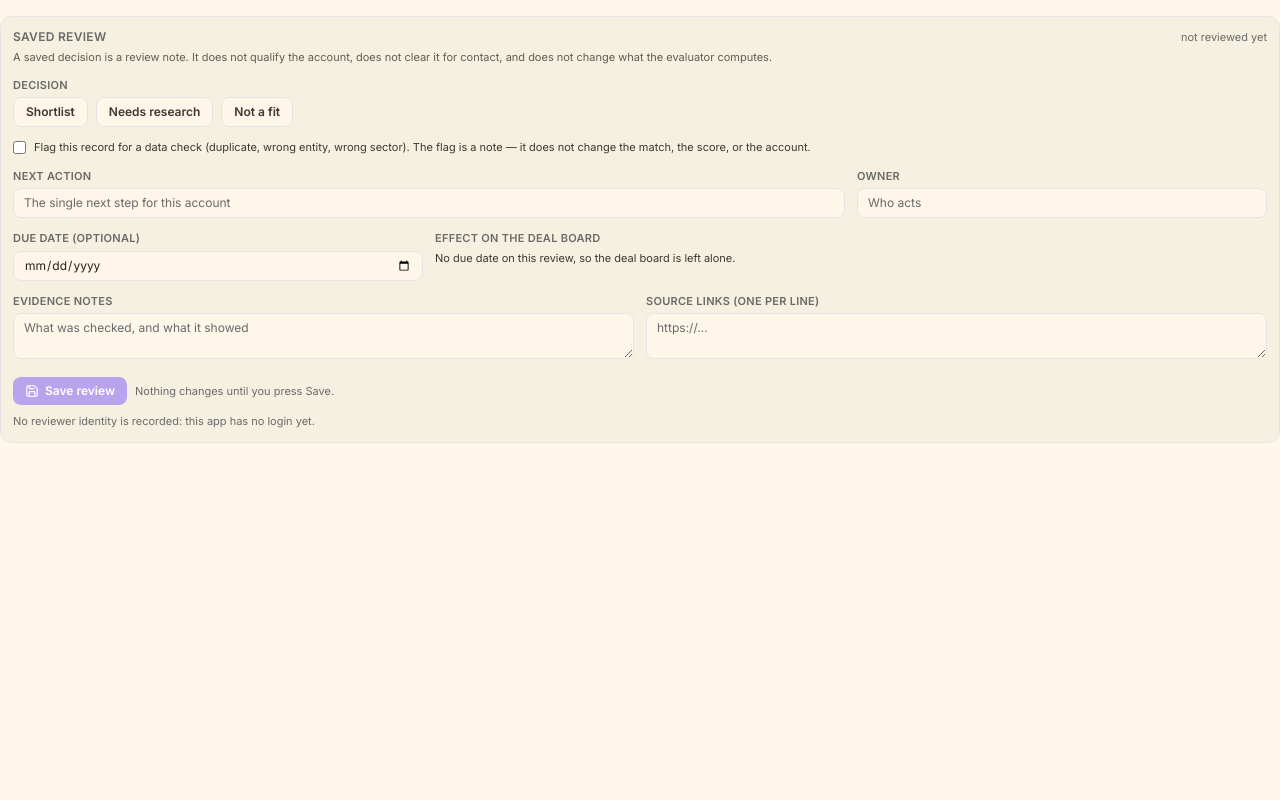
Test: ProspectReviewPanel › refuses a decision with no reason, before writing anything
Click the button "Shortlist": (50, 112) [13,97,88,127]
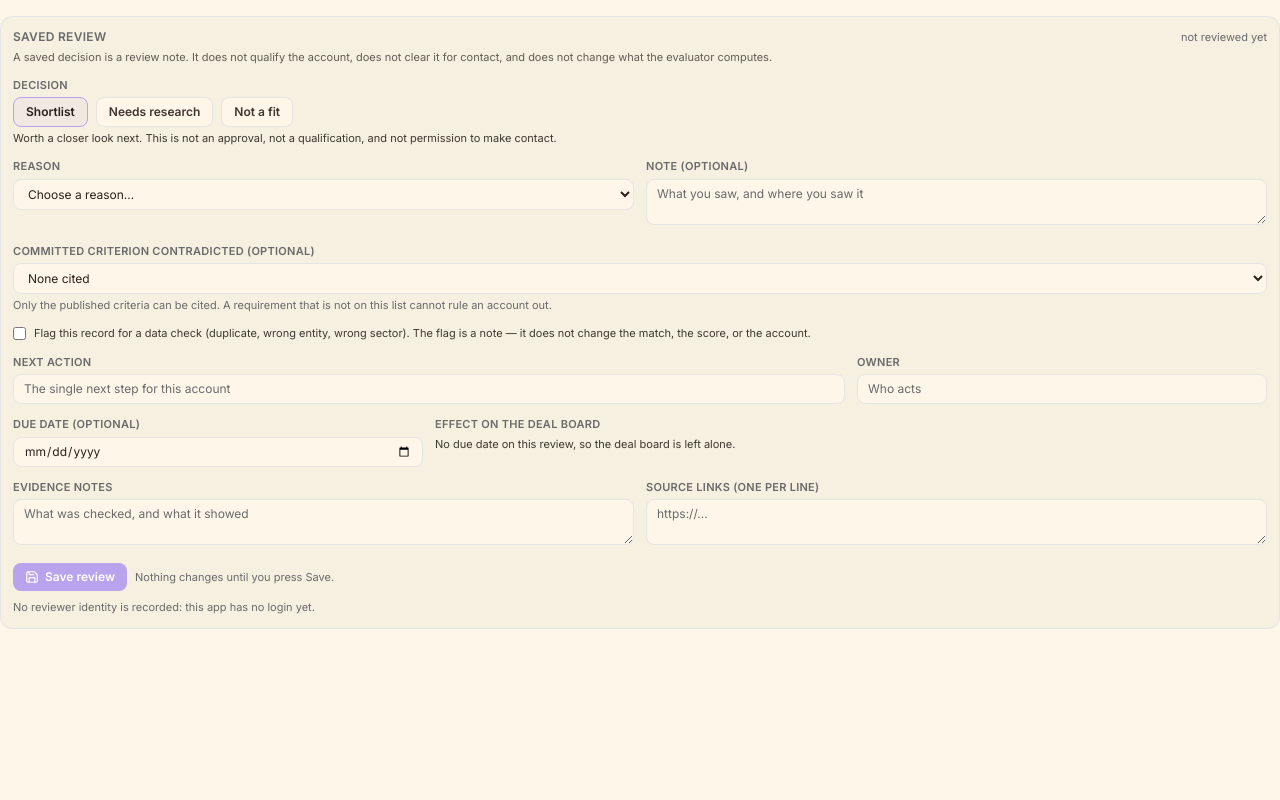
Click the button "Save review": (70, 577) [13,563,127,591]
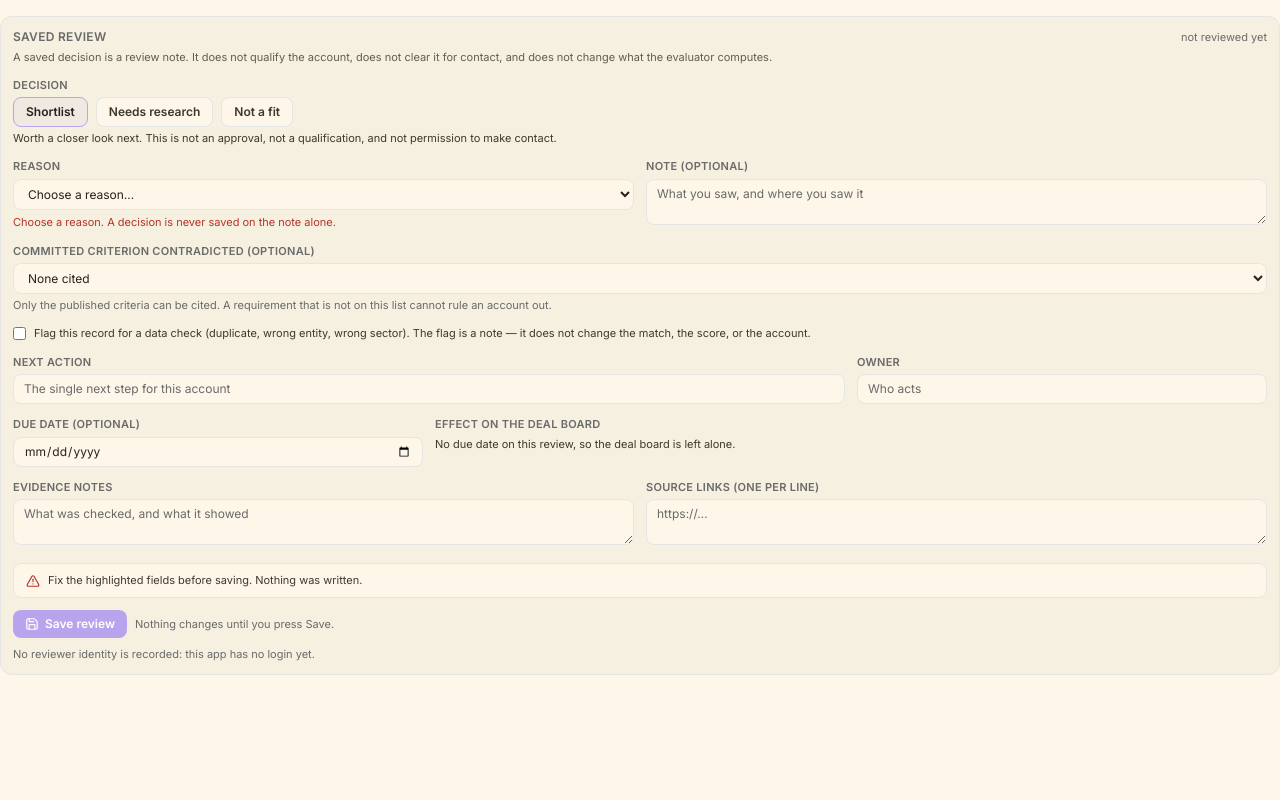
Result: the text "Fix the highlighted fields before saving" is shown at [48,573,362,587]
Result: the text "never saved on the note alone" is shown at [13,215,336,229]
